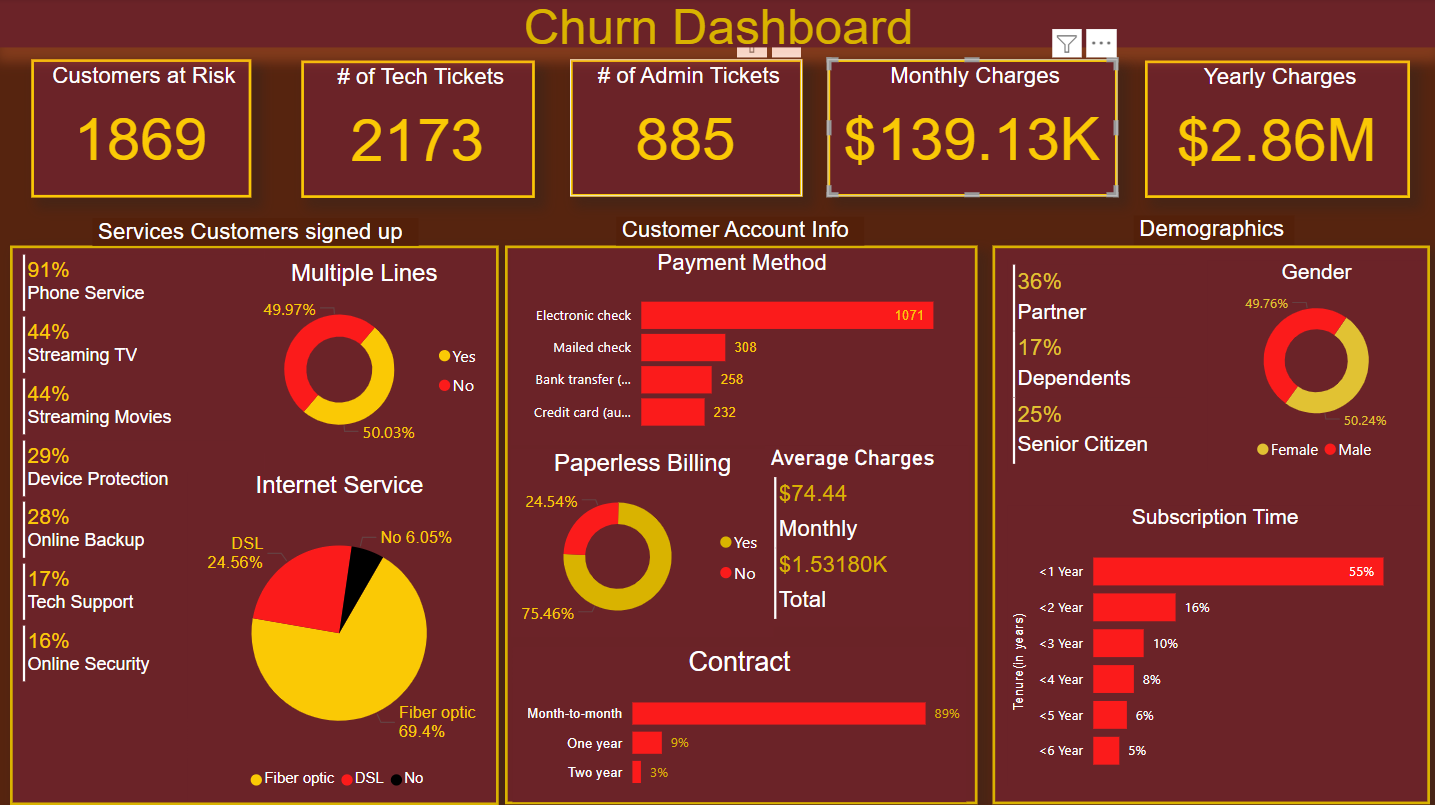

Layout of this report page (visuals, bound fields, positions):
{"tool":"powerbi","page":{"name":"Page 1","canvas":[1280,720],"ordinal":0},"visuals":[{"type":"card","title":"Customers at Risk","fields":{"Values":["CountNonNull(01 Churn-Dataset.customerID)"]},"box":[27.8,54.5,195.9,123.6],"z":0},{"type":"textbox","box":[883.9,220.4,389.6,497.6],"z":0,"group":"g3"},{"type":"textbox","box":[8.9,220.4,435.3,498.7],"z":1000},{"type":"cardVisual","fields":{"Data":["Churn.% of partner","Churn.% of Dependents","Churn.Senior Citizen"]},"box":[897.4,232.8,164,189.8],"z":1000,"group":"g3"},{"type":"card","title":"Yearly Charges","fields":{"Values":["Sum(Churn.Yearly Charges)"]},"box":[1019.7,55.7,236,122.4],"z":2000},{"type":"donutChart","title":"Gender","fields":{"Y":["CountNonNull(Churn.gender)"],"Series":["Churn.gender"]},"box":[1075.2,234,194.1,187.4],"z":2000,"group":"g3"},{"type":"card","title":"Monthly Charges","fields":{"Values":["Sum(Churn.MonthlyCharges)"]},"box":[736.9,54.5,258.3,122.4],"z":3000},{"type":"clusteredBarChart","title":"Subscription Time","fields":{"Category":["Churn.Tenure(in years)"],"Y":["CountNonNull(Churn.Churn)"]},"box":[897.4,452.5,369.8,249.5],"z":3000,"group":"g3"},{"type":"card","title":"# of Tech Tickets","fields":{"Values":["Sum(Churn.numTechTickets)"]},"box":[268.3,55.7,208.2,122.4],"z":4000},{"type":"card","title":"# of Admin Tickets","fields":{"Values":["Sum(Churn.numAdminTickets)"]},"box":[507.6,54.5,207.1,122.4],"z":5000},{"type":"group","id":"g1","title":"Group 1","box":[15.6,223.7,423,490.9],"z":6000},{"type":"cardVisual","fields":{"Data":["Churn.% Phone Service","Churn.% Streaming TV","Churn.% Streaming Movies","Churn.% Device Protection","Churn.% Online Backup","Churn.% Tech Support","Churn.% Online Sec"]},"box":[15.6,223.7,219.9,396.2],"z":6000,"group":"g1"},{"type":"group","id":"g2","title":"Group 2","box":[449.7,220.4,421,497.3],"z":7000},{"type":"textbox","box":[449.7,220.4,421,497.3],"z":7000,"group":"g2"},{"type":"donutChart","title":"Multiple Lines","fields":{"Category":["Churn.MultipleLines"],"Y":["CountNonNull(Churn.MultipleLines)"]},"box":[210.2,232.9,227.9,173],"z":7000,"group":"g1"},{"type":"textbox","title":"Services Customers signed up for","box":[82.4,195.9,290.5,24.5],"z":8000},{"type":"donutChart","title":"Paperless Billing","fields":{"Category":["Churn.PaperlessBilling"],"Y":["CountNonNull(Churn.PaperlessBilling)"]},"box":[455.8,401.7,233.7,167.3],"z":8000,"group":"g2"},{"type":"pieChart","title":"Internet Service","fields":{"Category":["Churn.InternetService"],"Y":["CountNonNull(Churn.InternetService)"]},"box":[167.5,421.8,270.6,293.2],"z":8000,"group":"g1"},{"type":"textbox","title":"Customer Account Info","box":[548.8,194.8,220.4,25.6],"z":9000},{"type":"clusteredBarChart","title":"Payment Method","fields":{"Y":["CountNonNull(Churn.PaymentMethod)"],"Category":["Churn.PaymentMethod"]},"box":[455.8,223.7,411.2,174.5],"z":9000,"group":"g2"},{"type":"textbox","title":"Demographics","box":[1009.7,193.7,143.6,26.7],"z":10000},{"type":"textbox","title":"Average Charges","box":[681,398.1,181.1,161.4],"z":10000,"group":"g2"},{"type":"group","id":"g3","title":"Group 3","box":[883.9,220.4,389.6,497.6],"z":11000},{"type":"cardVisual","fields":{"Data":["Avg(Churn.MonthlyCharges)","Avg(Churn.Yearly Charges)"]},"box":[684.7,421.9,170.1,137.7],"z":11000,"group":"g2"},{"type":"textbox","title":"Churn Dashboard","box":[0,0,1280,44],"z":11001},{"type":"clusteredBarChart","title":"Contract","fields":{"Category":["Churn.Contract"],"Y":["CountNonNull(Churn.Contract)"]},"box":[456.7,577.3,404.1,138],"z":12000,"group":"g2"}]}

Visuals, with their boxes in screenshot pixels (x1, y1, x2, y2), scaled from the page's 1280x720 canvas onto the 1435x805 screenshot:
"Customers at Risk" card: box=[31, 61, 251, 199]
textbox: box=[991, 246, 1428, 803]
textbox: box=[10, 246, 498, 804]
cardVisual - Churn.% of partner x Churn.% of Dependents: box=[1006, 260, 1190, 472]
"Yearly Charges" card: box=[1143, 62, 1408, 199]
"Gender" donutChart: box=[1205, 262, 1423, 471]
"Monthly Charges" card: box=[826, 61, 1116, 198]
"Subscription Time" clusteredBarChart: box=[1006, 506, 1421, 785]
"# of Tech Tickets" card: box=[301, 62, 534, 199]
"# of Admin Tickets" card: box=[569, 61, 801, 198]
"Group 1" group: box=[17, 250, 492, 799]
cardVisual - Churn.% Phone Service x Churn.% Streaming TV: box=[17, 250, 264, 693]
"Group 2" group: box=[504, 246, 976, 802]
textbox: box=[504, 246, 976, 802]
"Multiple Lines" donutChart: box=[236, 260, 491, 454]
"Services Customers signed up for" textbox: box=[92, 219, 418, 246]
"Paperless Billing" donutChart: box=[511, 449, 773, 636]
"Internet Service" pieChart: box=[188, 472, 491, 799]
"Customer Account Info" textbox: box=[615, 218, 862, 246]
"Payment Method" clusteredBarChart: box=[511, 250, 972, 445]
"Demographics" textbox: box=[1132, 217, 1293, 246]
"Average Charges" textbox: box=[763, 445, 966, 626]
"Group 3" group: box=[991, 246, 1428, 803]
cardVisual - Avg(Churn.MonthlyCharges) x Avg(Churn.Yearly Charges): box=[768, 472, 958, 626]
"Churn Dashboard" textbox: box=[0, 0, 1434, 49]
"Contract" clusteredBarChart: box=[512, 645, 965, 800]
